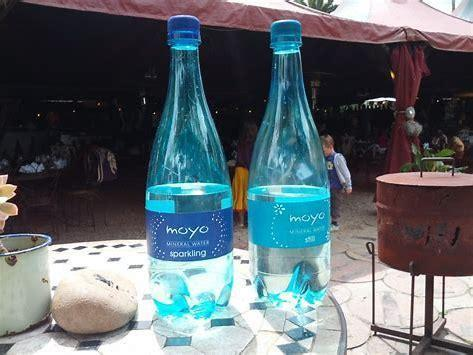bottle: (146, 12, 233, 320), (249, 18, 333, 308)
